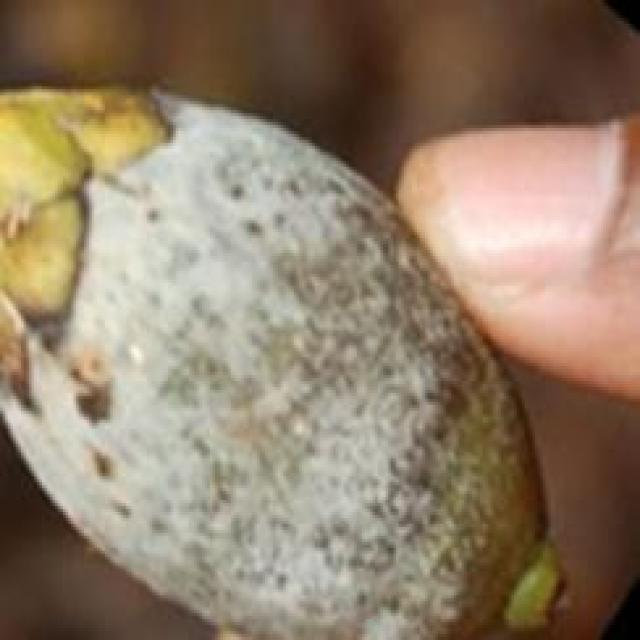damaged: (0, 89, 556, 637)
